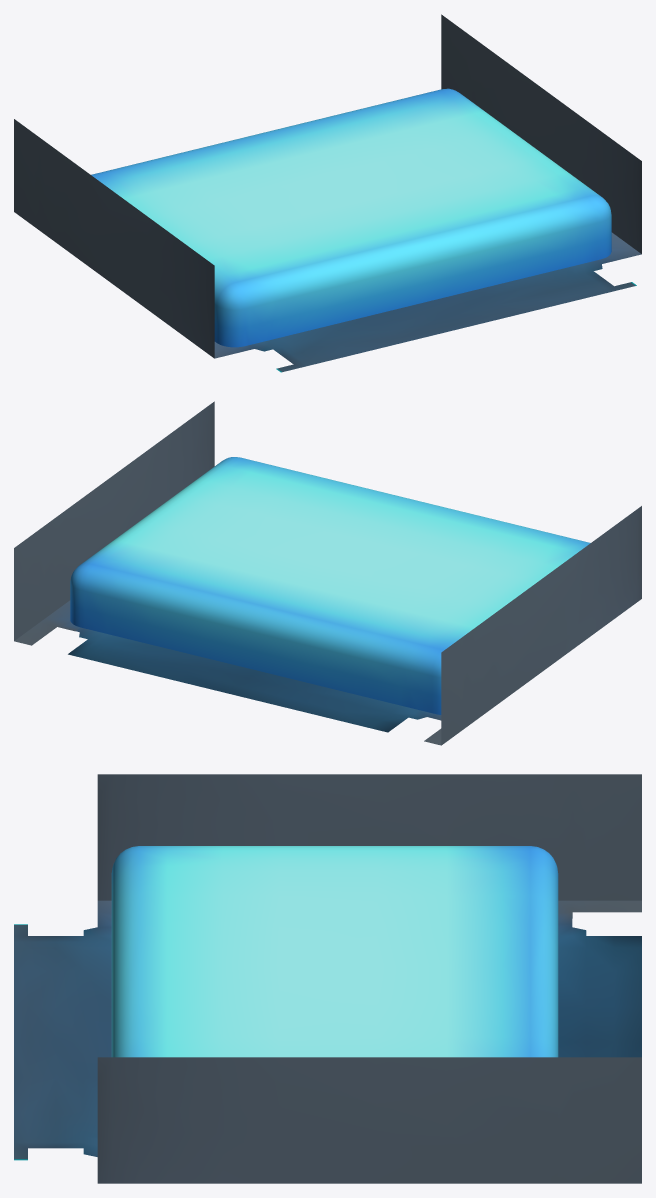
Rendered from Roof-single.fbx.
The picture shows the model from 3 angles, top to bottom: view 1: azimuth 30°, elevation 25°; view 2: azimuth 150°, elevation 25°; view 3: azimuth 270°, elevation 25°; orthographic projection. The views are drawn at different scales.
Parts seen in each view (by area): view 1: ROOF/FLOOR SINGLE.004; view 2: ROOF/FLOOR SINGLE.004; view 3: ROOF/FLOOR SINGLE.004.
Part boxes in pixels (x1,y1,x2,y2): ROOF/FLOOR SINGLE.004: (14,14,641,372); ROOF/FLOOR SINGLE.004: (14,401,641,745); ROOF/FLOOR SINGLE.004: (14,774,641,1183).
Size of the model in its own units: 2400 by 500 by 2250.
